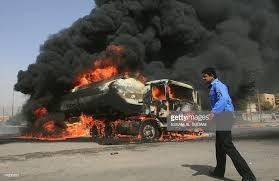fire: (25, 104, 209, 142), (74, 57, 134, 82), (150, 81, 179, 100)
